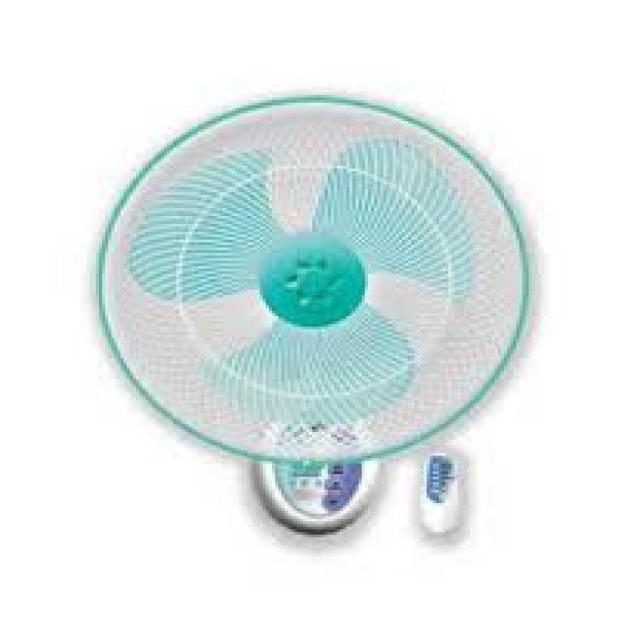fan: (58, 58, 568, 582)
